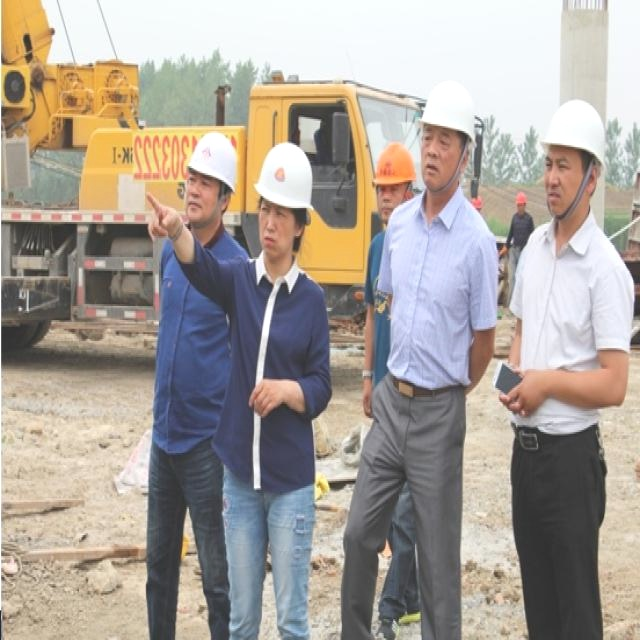Con_Casco: (541, 95, 609, 220), (253, 142, 311, 255)
Sin_Chaleco: (226, 256, 329, 469), (389, 192, 498, 392)
